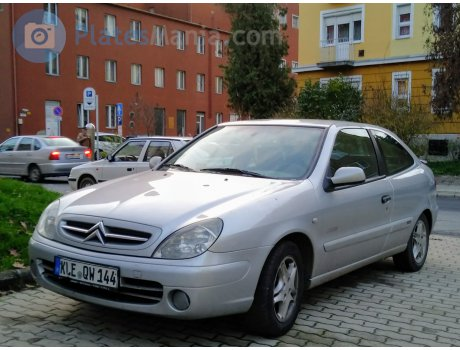License Plates: (59, 262, 113, 281)
